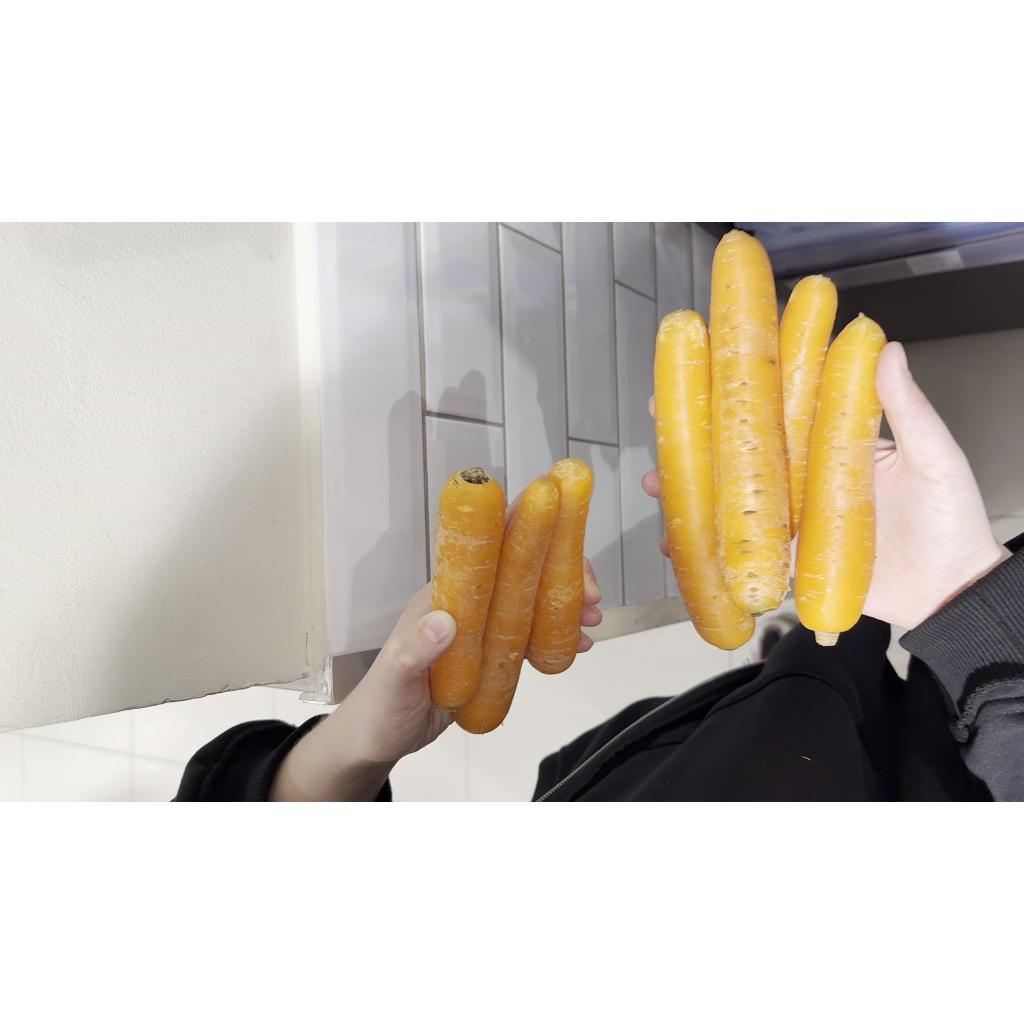carrot: (650, 310, 754, 650), (710, 230, 792, 615), (796, 316, 886, 644), (452, 478, 560, 734), (430, 468, 506, 712), (780, 276, 838, 536), (526, 458, 594, 674)
